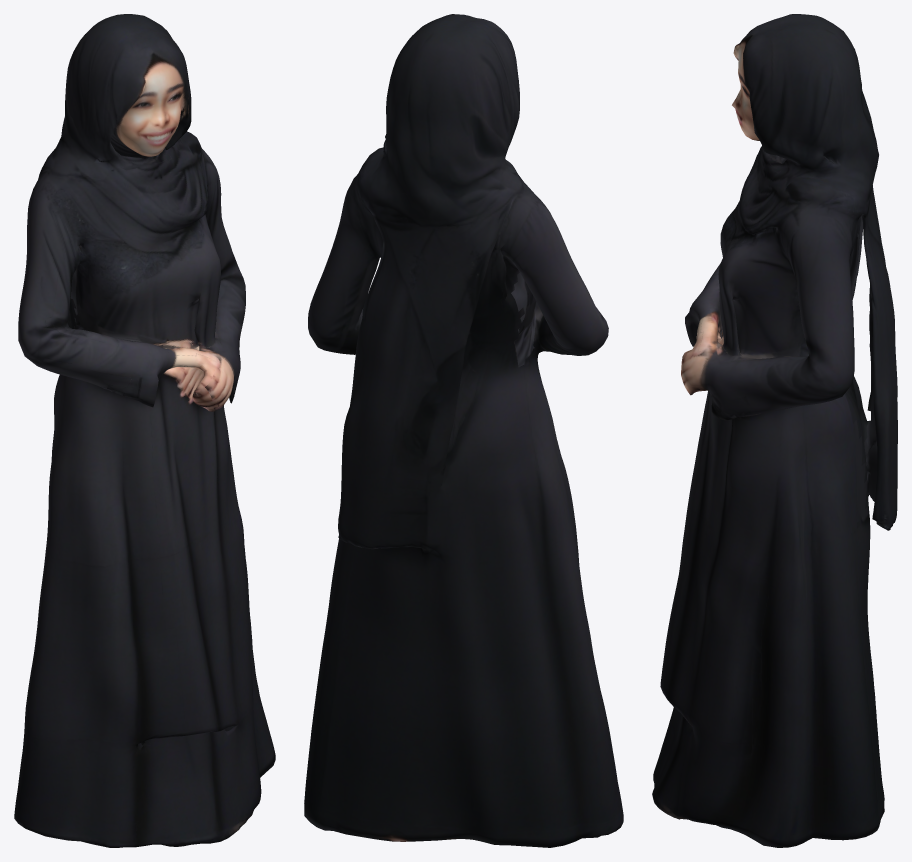
Rendered from woman_hijab.glb.
3 views of the same model, side by side, from view 1: azimuth 30°, elevation 25°; view 2: azimuth 150°, elevation 25°; view 3: azimuth 270°, elevation 25° (orthographic). The views are drawn at different scales.
Visible parts, largest first — view 1: Object_3; view 2: Object_3; view 3: Object_3.
Boxes of the visible parts, left/top/right/bottom form: Object_3: left=14, top=14, right=275, bottom=847; Object_3: left=304, top=14, right=623, bottom=847; Object_3: left=652, top=14, right=897, bottom=847.
Bounding box in the file's own units: 0.7205 × 2 × 0.5709.
1 material, 1 textured.
